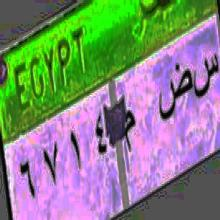1: (68, 121, 83, 182)
4: (90, 109, 109, 168)
6: (15, 150, 38, 209)
7: (40, 132, 63, 201)
daad: (155, 64, 192, 122)
meem: (121, 103, 141, 167)
seen: (194, 44, 220, 108)
